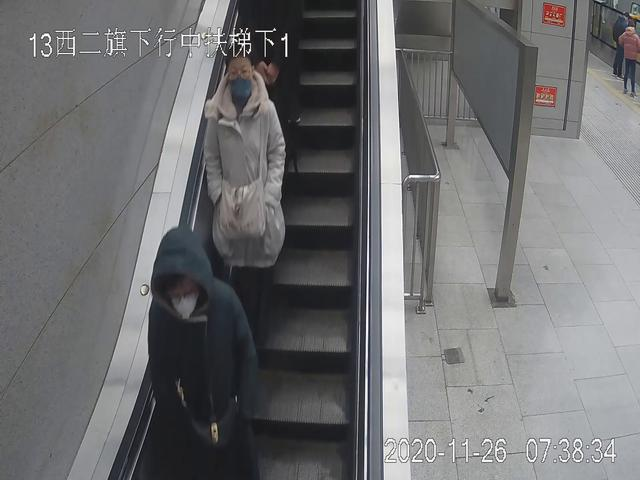person: (147, 228, 257, 480), (205, 48, 288, 356), (618, 22, 640, 95)
